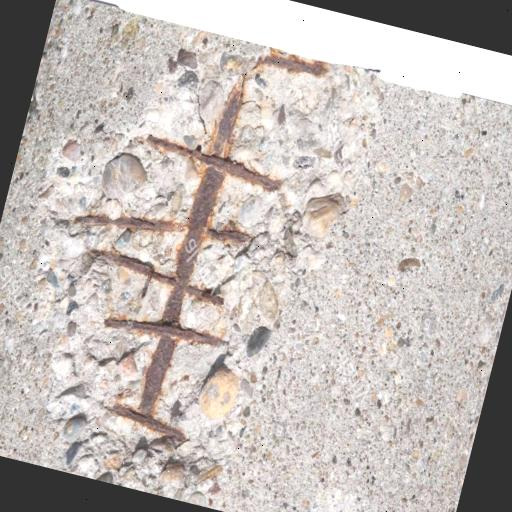spalling: (1, 21, 391, 512)
